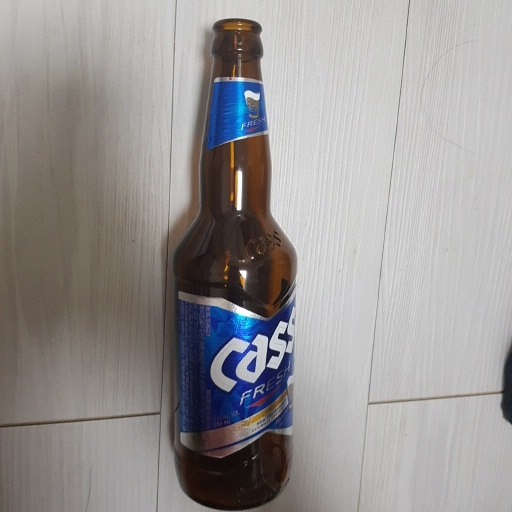Glass_1: (173, 19, 301, 512)
